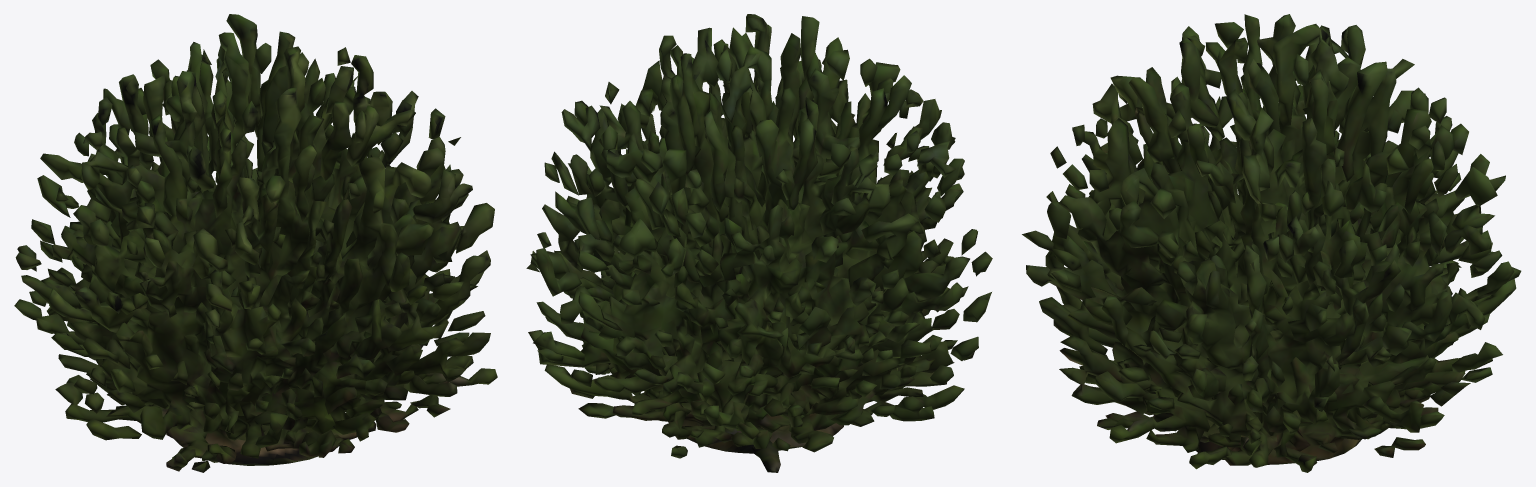
The model's file is AI_AlpineShrub.fbx.
3 renders of one model, left to right at view 1: azimuth 30°, elevation 25°; view 2: azimuth 150°, elevation 25°; view 3: azimuth 270°, elevation 25°, orthographic. The views are drawn at different scales.
Visible parts, largest first — view 1: Mesh1.0; view 2: Mesh1.0; view 3: Mesh1.0.
Boxes of the visible parts, bbox=[...] form: Mesh1.0: bbox=[14, 14, 497, 472]; Mesh1.0: bbox=[526, 14, 992, 472]; Mesh1.0: bbox=[1022, 14, 1521, 472].
Size of the model in its own units: 193 by 173 by 195.
Materials: 1 (1 with a texture image).
